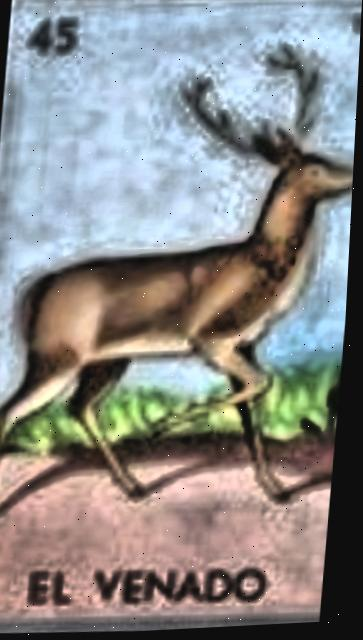El Venado: (0, 0, 363, 624)
